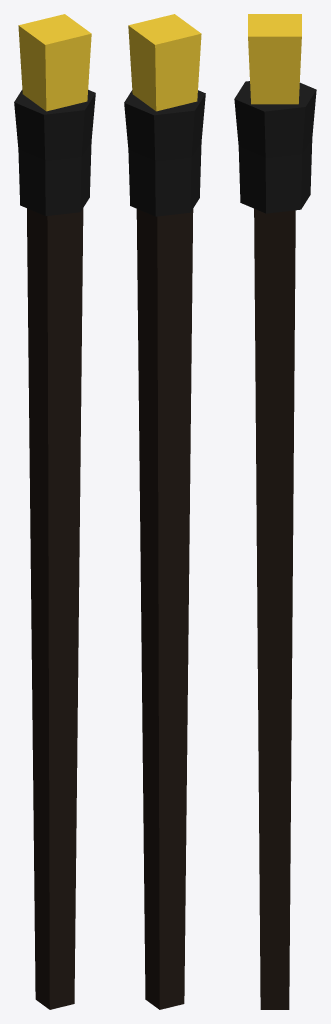
File: torch.FBX
The picture shows the model from 3 angles, left to right: view 1: azimuth 30°, elevation 25°; view 2: azimuth 210°, elevation 25°; view 3: azimuth 270°, elevation 25°; orthographic projection.
Parts seen in each view (by area): view 1: torch; view 2: torch; view 3: torch.
Part boxes in pixels (left/top/right/bottom): torch: left=14, top=14, right=95, bottom=1009; torch: left=124, top=14, right=205, bottom=1009; torch: left=234, top=14, right=316, bottom=1009.
Size of the model in its own units: 3.05 by 40 by 3.05.
